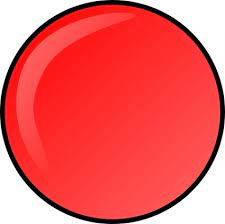su birakma alani: (1, 1, 223, 223)
